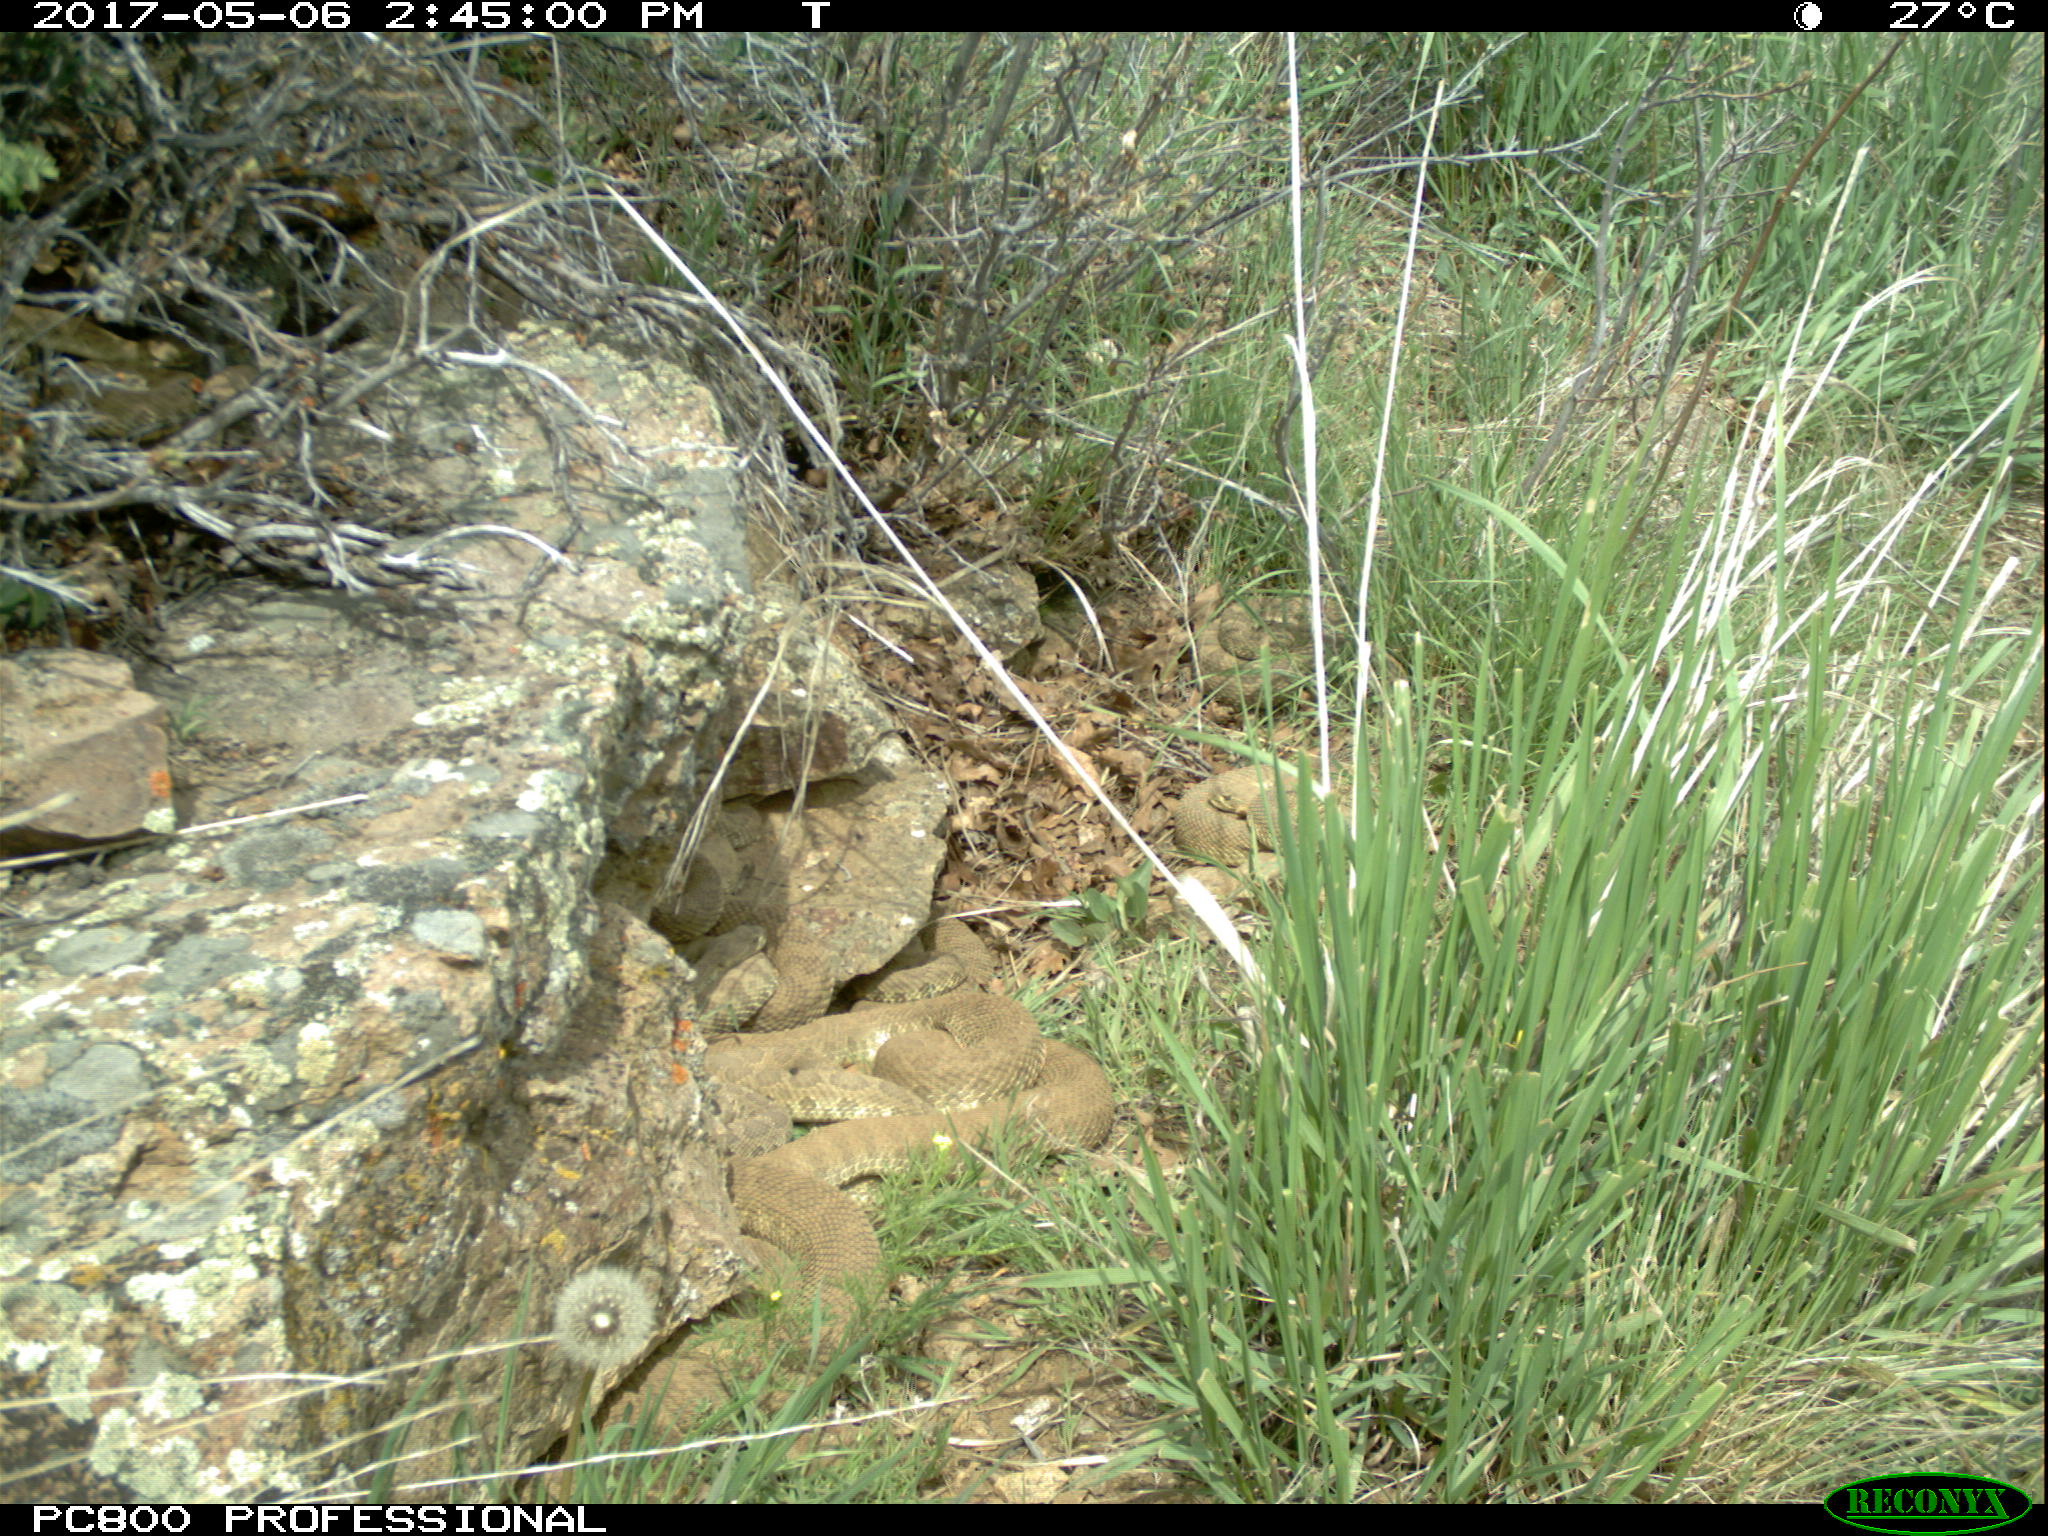snake: (698, 1018, 1114, 1359), (635, 842, 1008, 1008), (1185, 591, 1376, 707), (1168, 758, 1343, 879)
